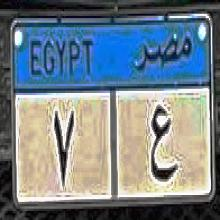7: (51, 103, 76, 187)
ain: (146, 98, 177, 184)
